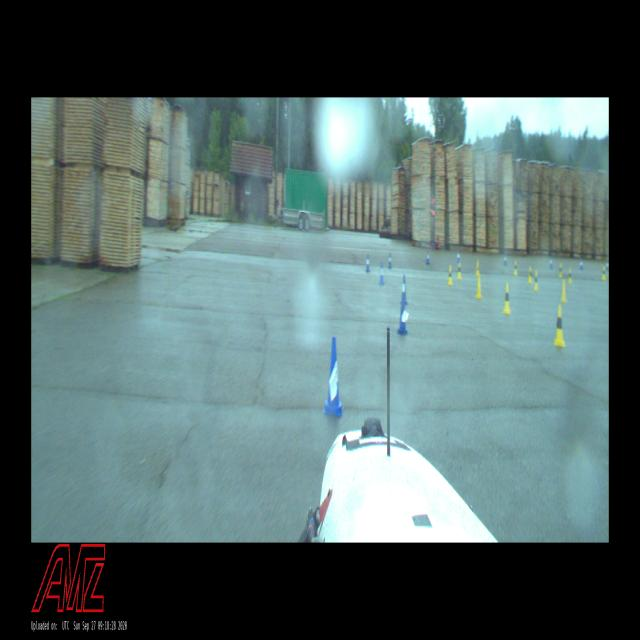blue_cone: (323, 338, 343, 415), (398, 302, 408, 334), (401, 275, 407, 304), (379, 262, 385, 285), (366, 256, 370, 272), (388, 254, 392, 268), (426, 250, 429, 264)
yellow_cone: (555, 306, 565, 347), (504, 285, 510, 313), (476, 275, 482, 298), (561, 280, 566, 300), (448, 265, 452, 284), (534, 272, 538, 290), (528, 266, 532, 282), (458, 263, 461, 278), (514, 262, 517, 274)
